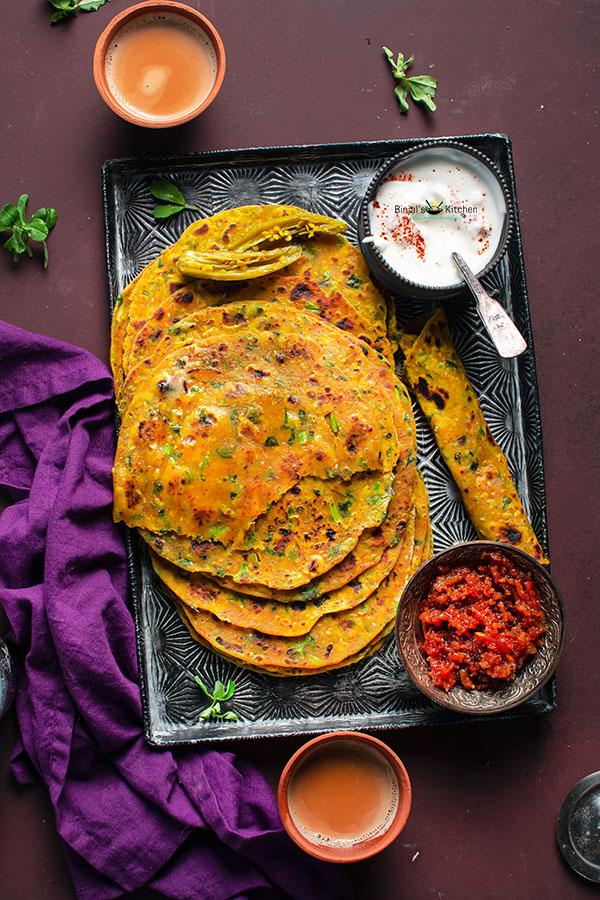thepla: (103, 208, 397, 652)
yogurt: (381, 143, 507, 296)
